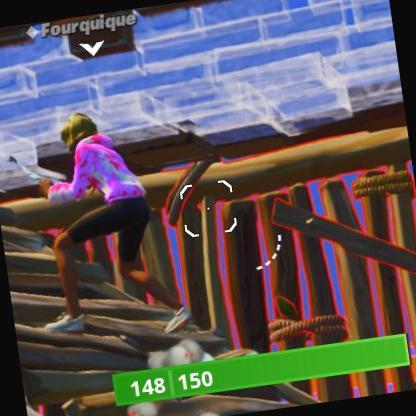person: (30, 101, 168, 332)
